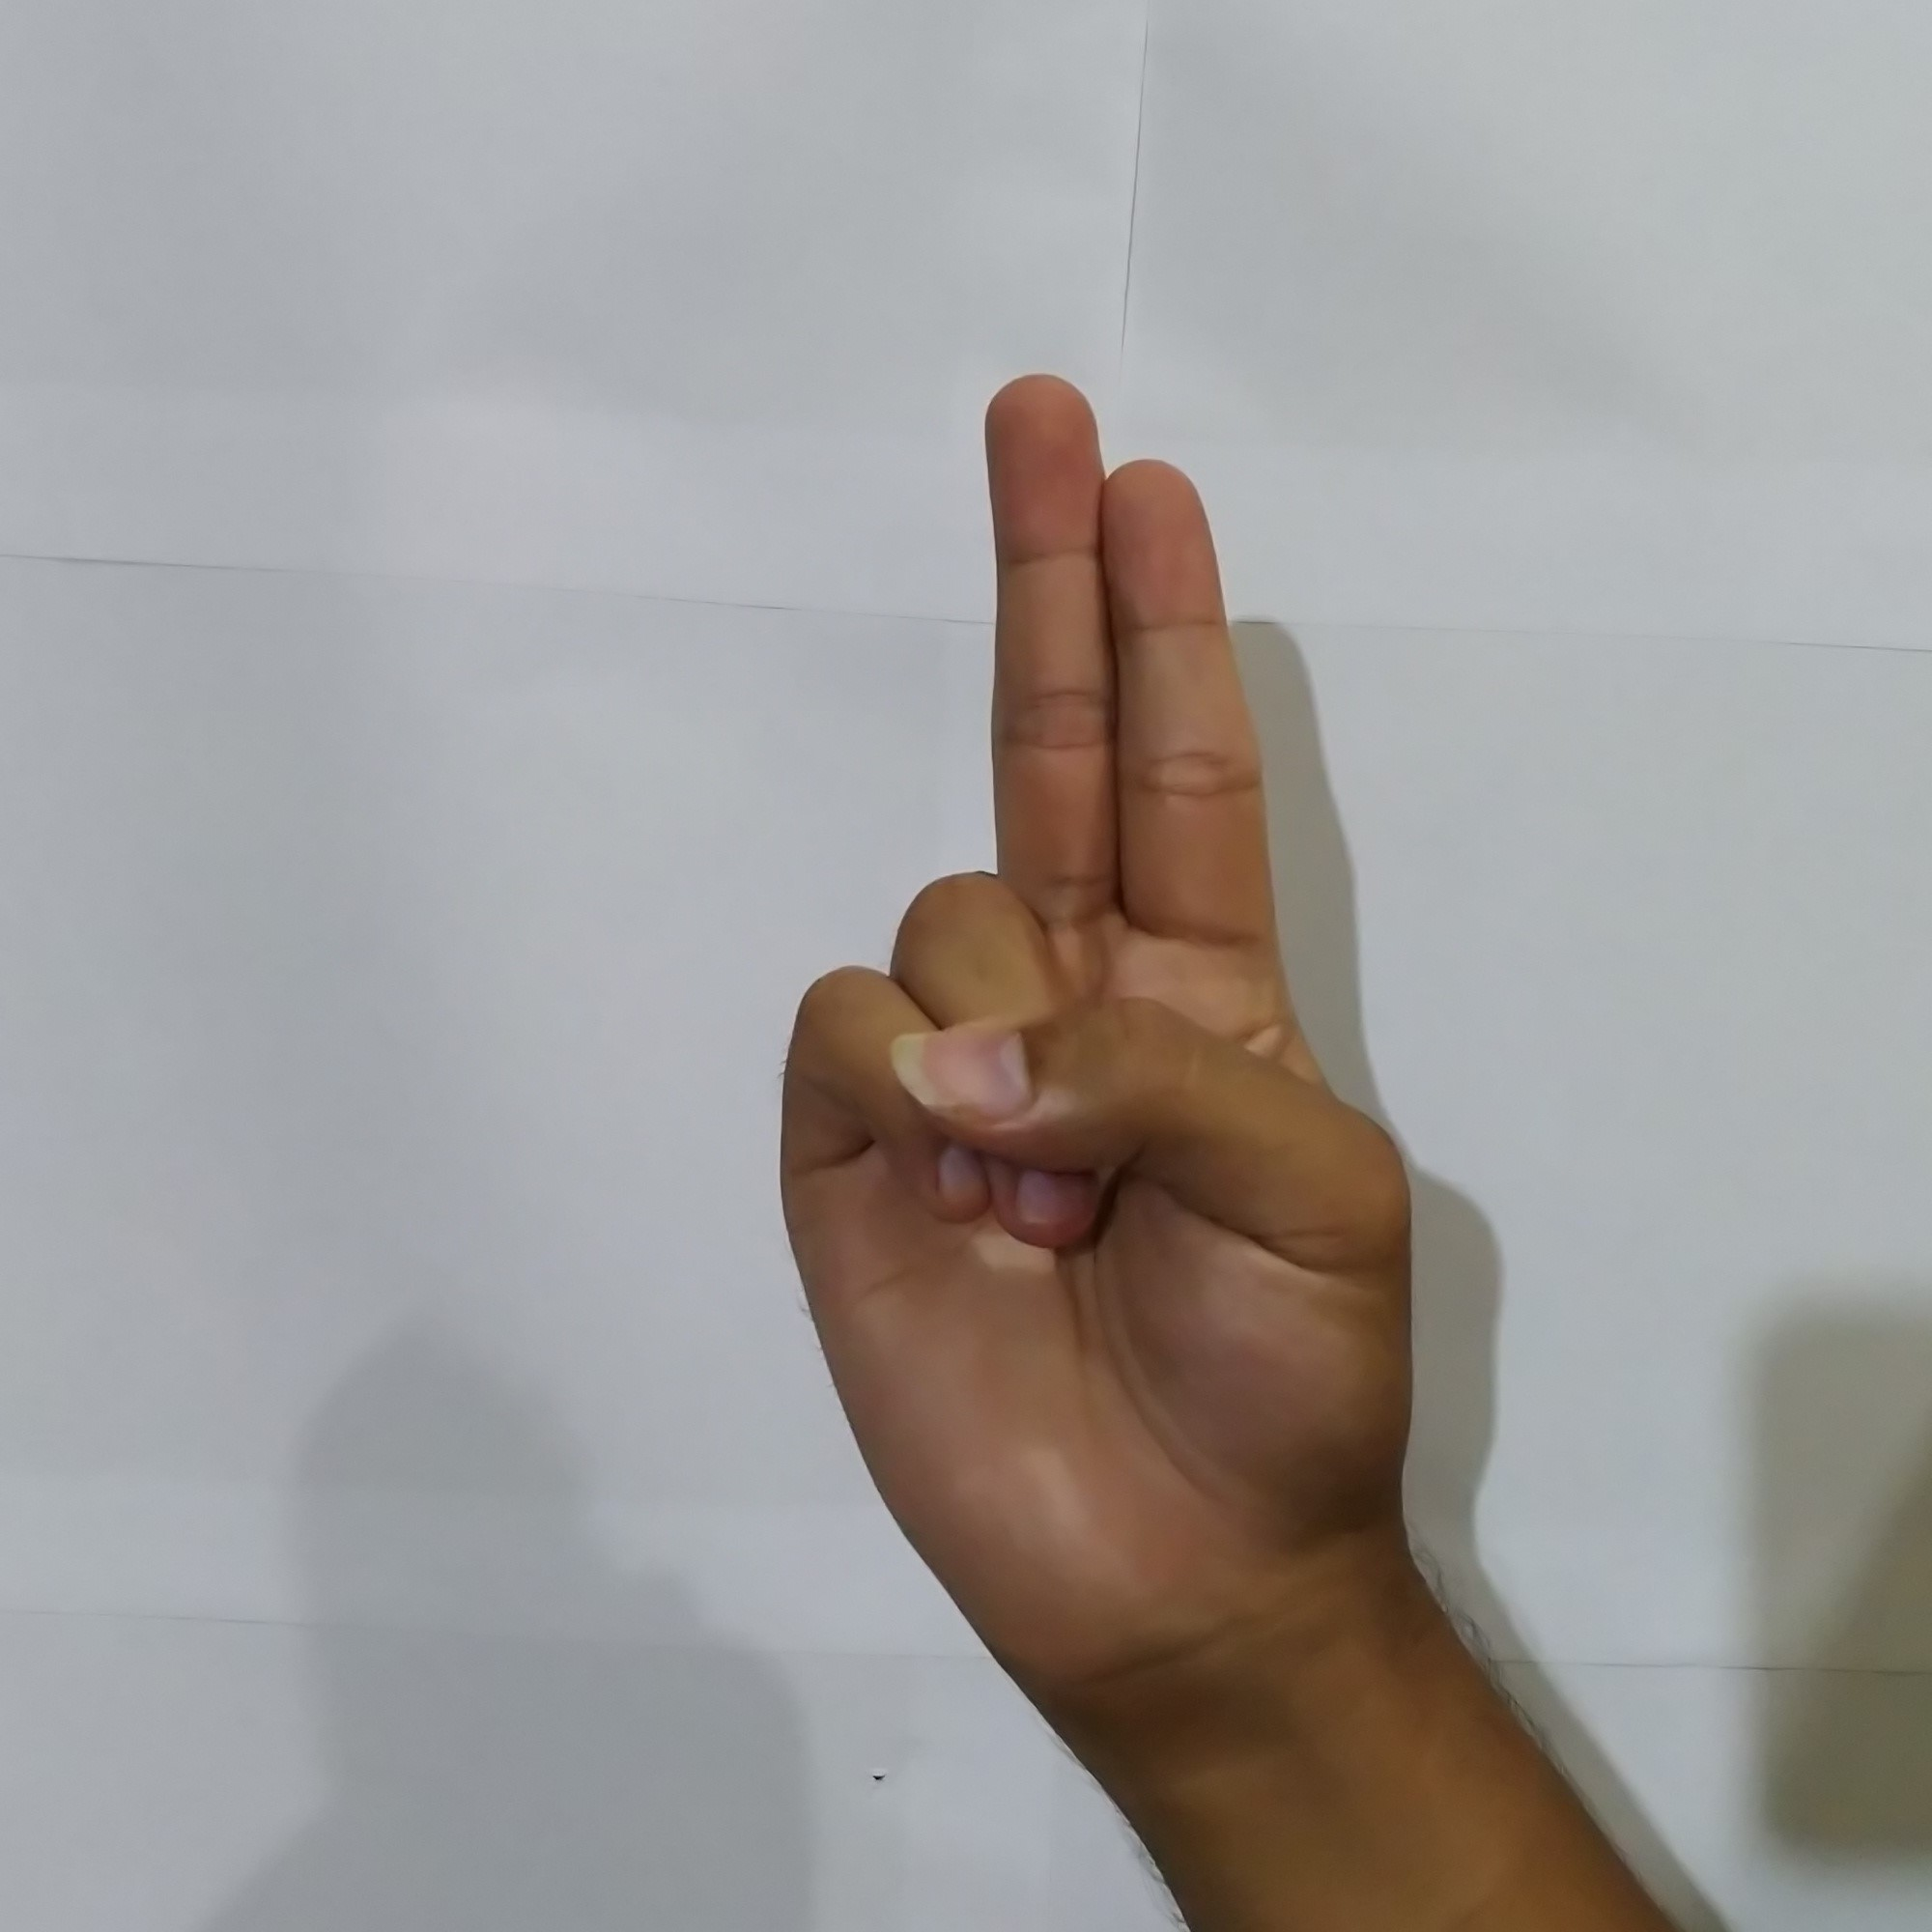U: (732, 341, 1456, 1633)
